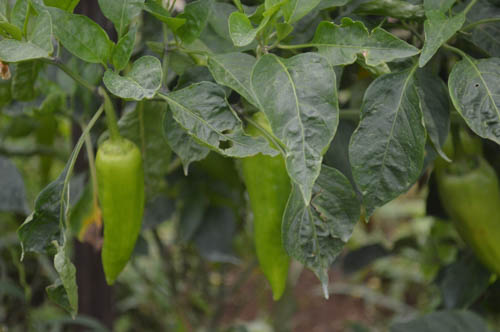ChiliPepper: (244, 116, 290, 301), (94, 148, 143, 287), (442, 163, 499, 273)
